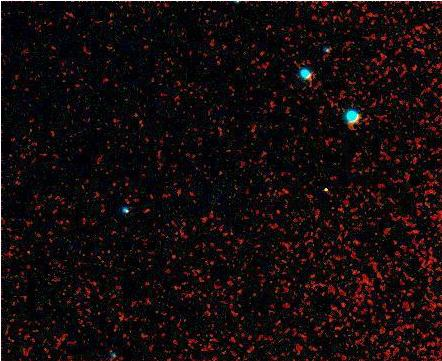star: (310, 174, 340, 204)
